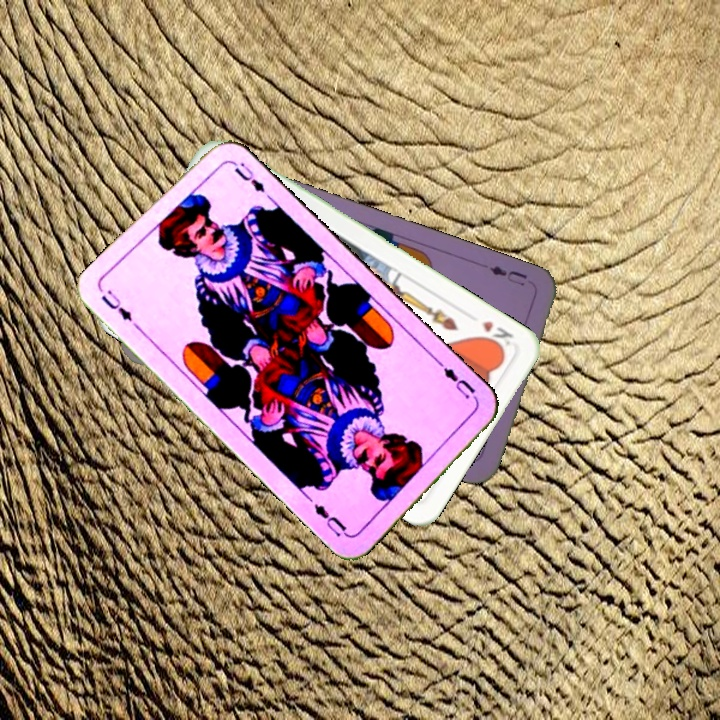EU: (97, 286, 144, 333), (439, 363, 478, 402), (486, 261, 530, 289)
HK: (476, 316, 517, 353)
